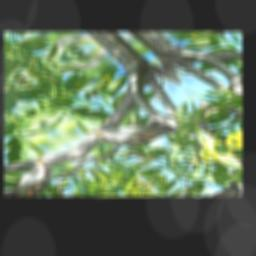Cuckoo: (89, 104, 178, 159)
